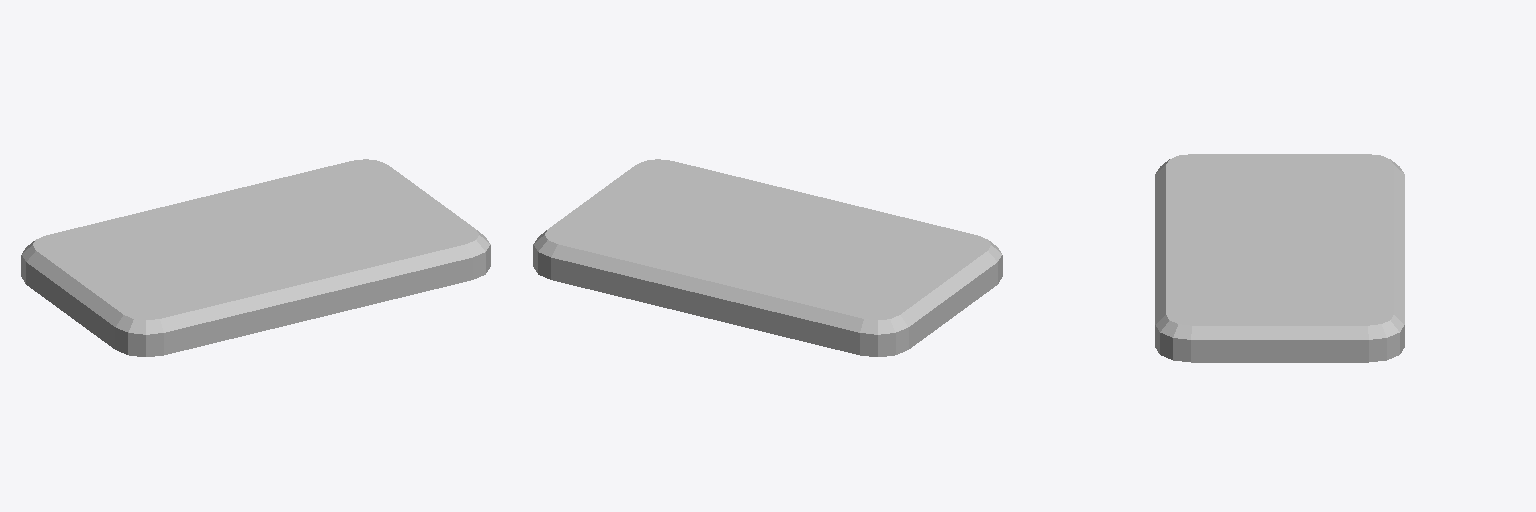
The model's file is doormat.obj.
3 renders of one model, left to right at view 1: azimuth 30°, elevation 25°; view 2: azimuth 150°, elevation 25°; view 3: azimuth 270°, elevation 25°, orthographic.
Visible parts, largest first — view 1: doormat; view 2: doormat; view 3: doormat.
Part boxes in pixels (x1,y1,x2,y2): doormat: (21,159,490,356); doormat: (533,159,1002,356); doormat: (1155,154,1404,362).
Size of the model in its own units: 1.2 by 0.1 by 0.7.